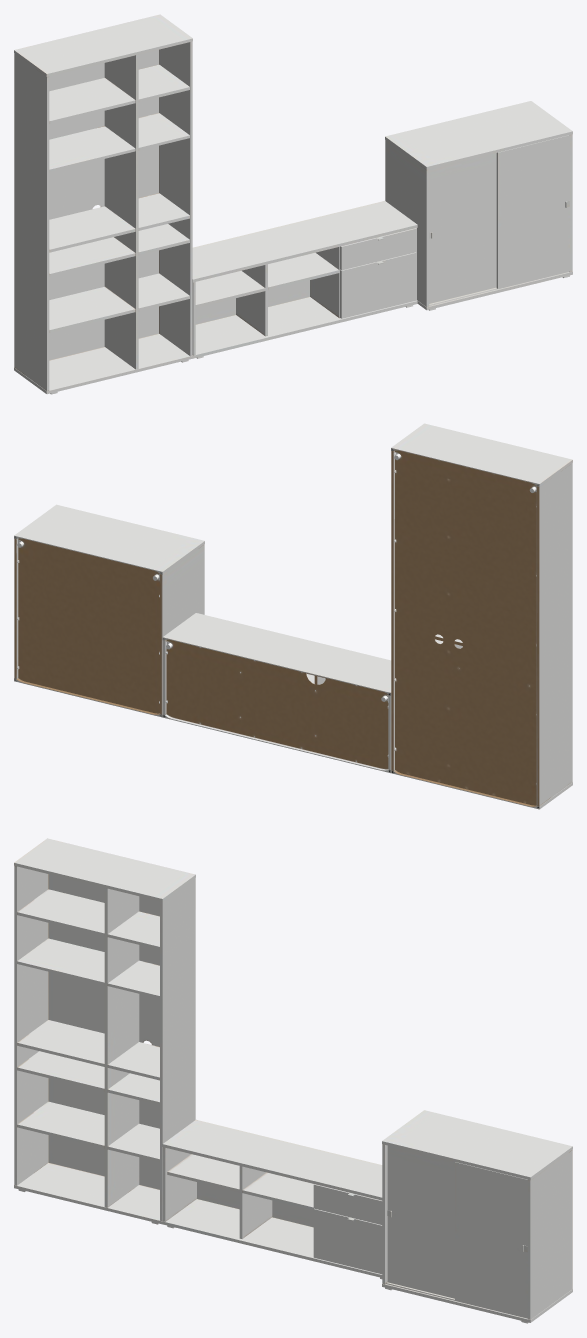
Rendered from vihals_tv_kombinacja_regaowa_09440679.glb.
3 views of the same model, one above another, from view 1: azimuth 30°, elevation 25°; view 2: azimuth 150°, elevation 25°; view 3: azimuth 330°, elevation 25° (orthographic).
Visible parts, largest first — view 1: vihals_tv_kombinacja_regaowa_09440679; view 2: vihals_tv_kombinacja_regaowa_09440679; view 3: vihals_tv_kombinacja_regaowa_09440679.
Boxes of the visible parts, x1,y1,x2,y2 form: vihals_tv_kombinacja_regaowa_09440679: [14, 14, 572, 394]; vihals_tv_kombinacja_regaowa_09440679: [14, 423, 572, 809]; vihals_tv_kombinacja_regaowa_09440679: [14, 838, 572, 1323].
Bounding box in the file's own units: 3.37 × 2 × 0.4885.
1 material, 1 textured.
